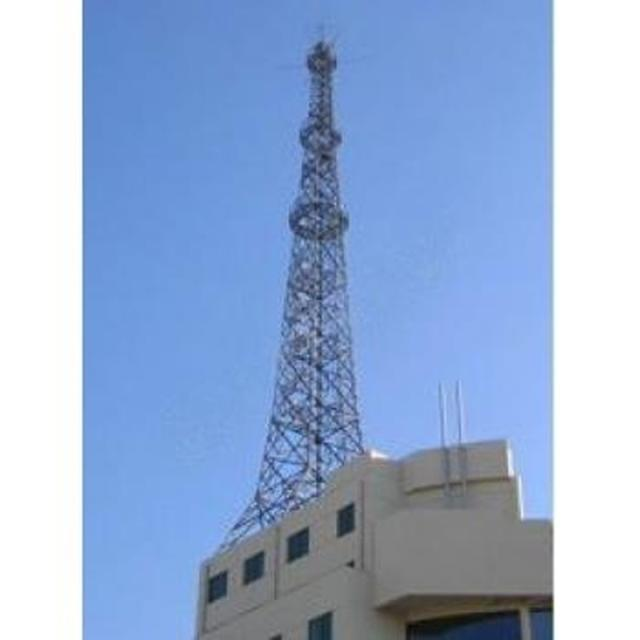non-critical vegetation: (250, 28, 376, 469)
